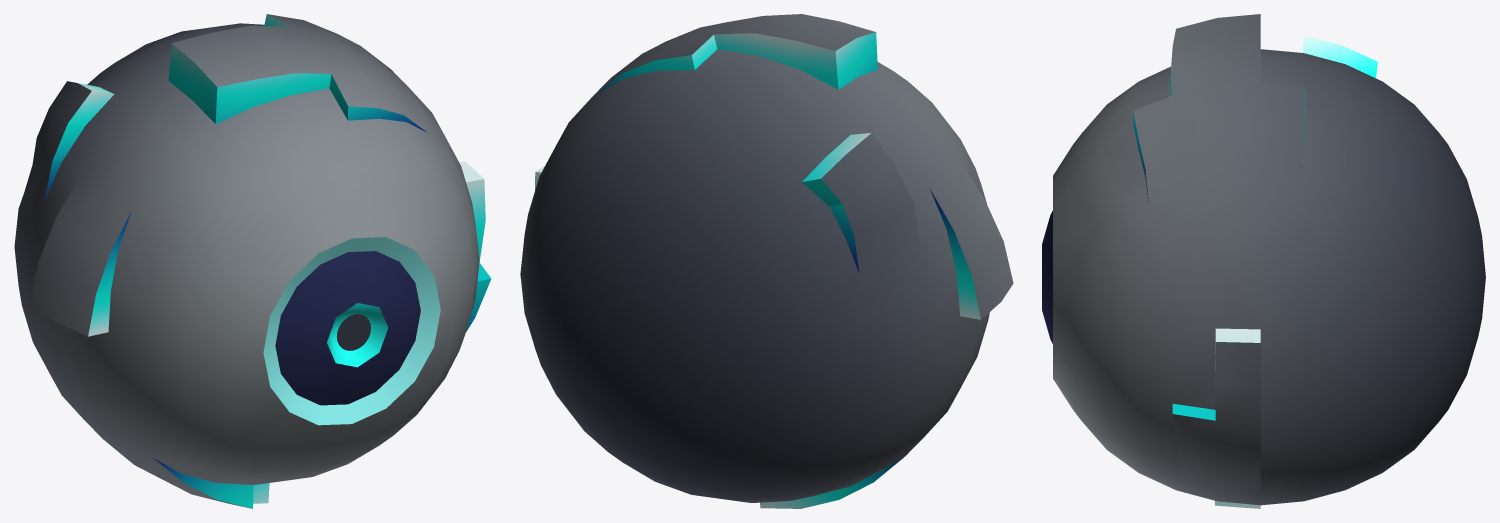
3 renders of one model, left to right at view 1: azimuth 30°, elevation 25°; view 2: azimuth 150°, elevation 25°; view 3: azimuth 270°, elevation 25°, orthographic. The views are drawn at different scales.
Visible parts, largest first — view 1: SM_AI; view 2: SM_AI; view 3: SM_AI.
Boxes of the visible parts, x1,y1,x2,y2 form: SM_AI: (14,14,491,508); SM_AI: (520,14,1013,508); SM_AI: (1042,14,1485,508).
Bounding box in the file's own units: 0.9396 × 0.9569 × 0.8366.
